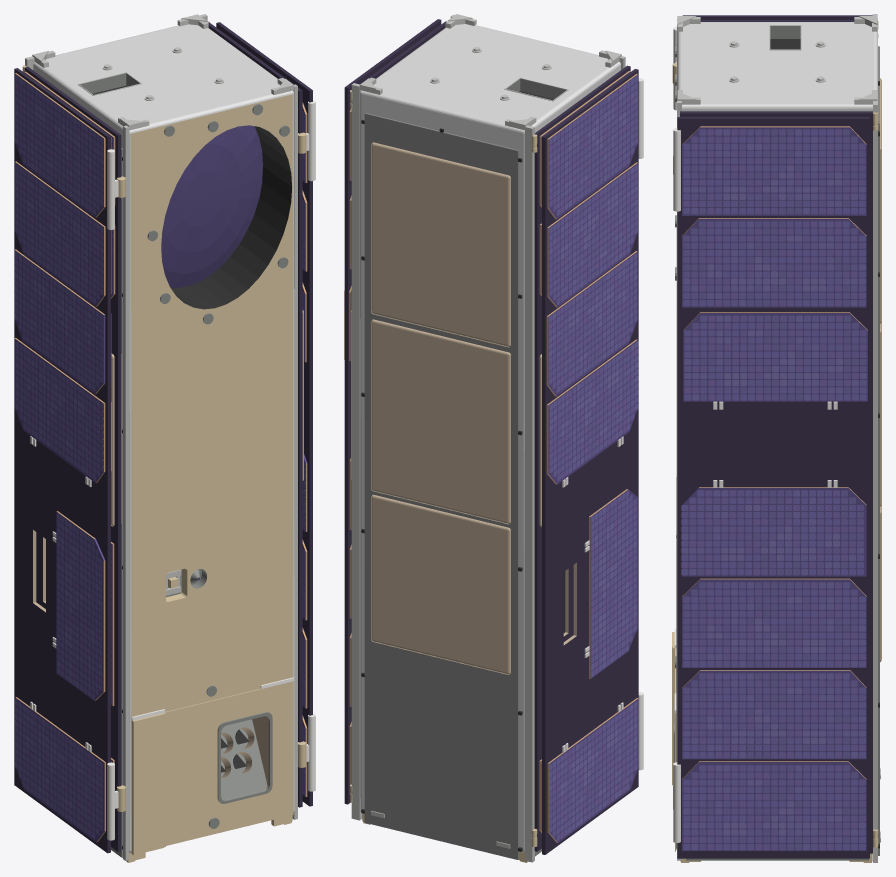
File: cubesat-mirata.glb
3 views of the same model, side by side, from view 1: azimuth 30°, elevation 25°; view 2: azimuth 150°, elevation 25°; view 3: azimuth 270°, elevation 25° (orthographic). The views are drawn at different scales.
Parts seen in each view (by area): view 1: Layer_0; view 2: Layer_0; view 3: Layer_0.
Boxes of the visible parts, x1,y1,x2,y2 form: Layer_0: (14, 14, 315, 862); Layer_0: (344, 14, 643, 862); Layer_0: (672, 14, 881, 862).
Bounding box in the file's own units: 2.46 × 8.4 × 2.09.
2 materials, 2 textured.
